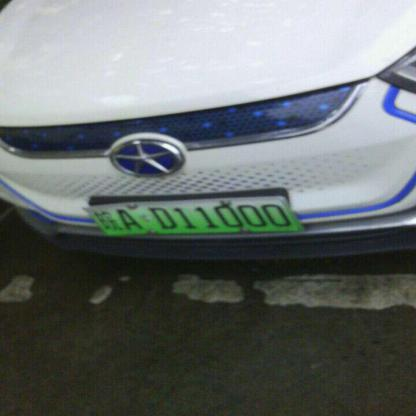lp: (81, 196, 300, 236)
